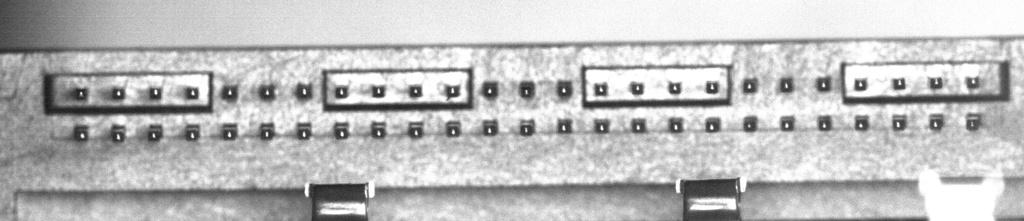pin_ok: (518, 80, 536, 98), (333, 121, 350, 139), (221, 122, 238, 140), (481, 81, 499, 98), (72, 124, 89, 141), (482, 118, 499, 135), (445, 120, 462, 137), (295, 82, 312, 99), (556, 80, 572, 98), (258, 84, 276, 100), (966, 113, 982, 130), (184, 124, 200, 141), (296, 123, 312, 140), (110, 126, 126, 143), (556, 117, 573, 133), (815, 76, 832, 92), (221, 84, 238, 100), (444, 83, 461, 99), (928, 114, 944, 130), (146, 126, 162, 142), (705, 116, 721, 132), (519, 120, 535, 136), (742, 77, 758, 93), (630, 118, 647, 133), (892, 114, 907, 130), (854, 115, 870, 130), (668, 117, 684, 132), (371, 122, 386, 138), (259, 124, 274, 140), (743, 115, 758, 131), (594, 118, 610, 133), (408, 123, 424, 138), (779, 76, 794, 92), (817, 115, 832, 130), (780, 115, 795, 130), (629, 81, 645, 95), (705, 80, 720, 94), (593, 82, 608, 96), (185, 86, 200, 100), (334, 84, 349, 98), (408, 84, 422, 98), (668, 80, 682, 94), (966, 75, 980, 89), (371, 84, 386, 97), (73, 87, 88, 100), (853, 78, 868, 91), (929, 76, 943, 89), (148, 86, 162, 99), (892, 77, 906, 89), (111, 87, 125, 99)
